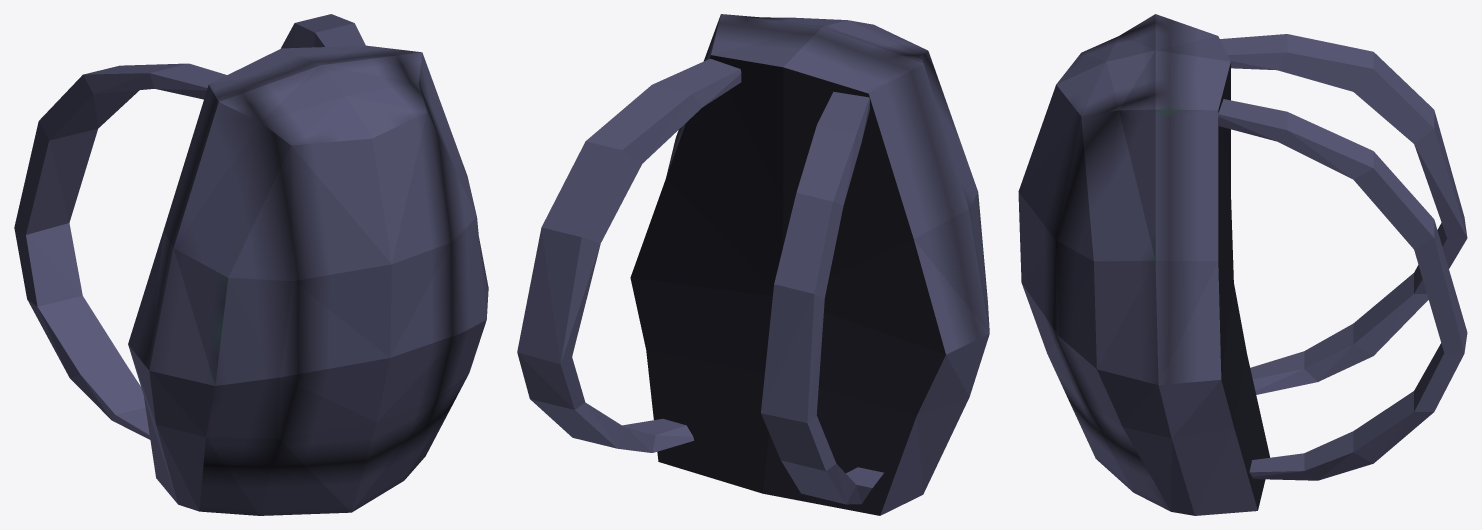
Rendered from Backpack.fbx.
3 views of the same model, side by side, from view 1: azimuth 30°, elevation 25°; view 2: azimuth 150°, elevation 25°; view 3: azimuth 270°, elevation 25° (orthographic). The views are drawn at different scales.
Parts seen in each view (by area): view 1: Backpack, BackpackStrings; view 2: Backpack, BackpackStrings; view 3: Backpack, BackpackStrings.
Part boxes in pixels (x1,y1,x2,y2): Backpack: (128,45,488,515); BackpackStrings: (14,14,365,439); Backpack: (630,14,989,515); BackpackStrings: (517,58,883,504); Backpack: (1018,14,1269,515); BackpackStrings: (1218,34,1467,480).
Bounding box in the file's own units: 41.07 × 48.94 × 49.12.
